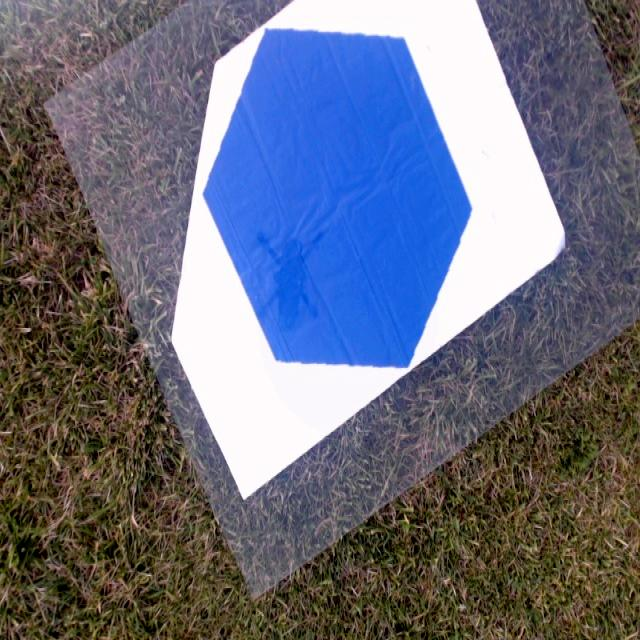blue_hexagon: (202, 28, 472, 368)
